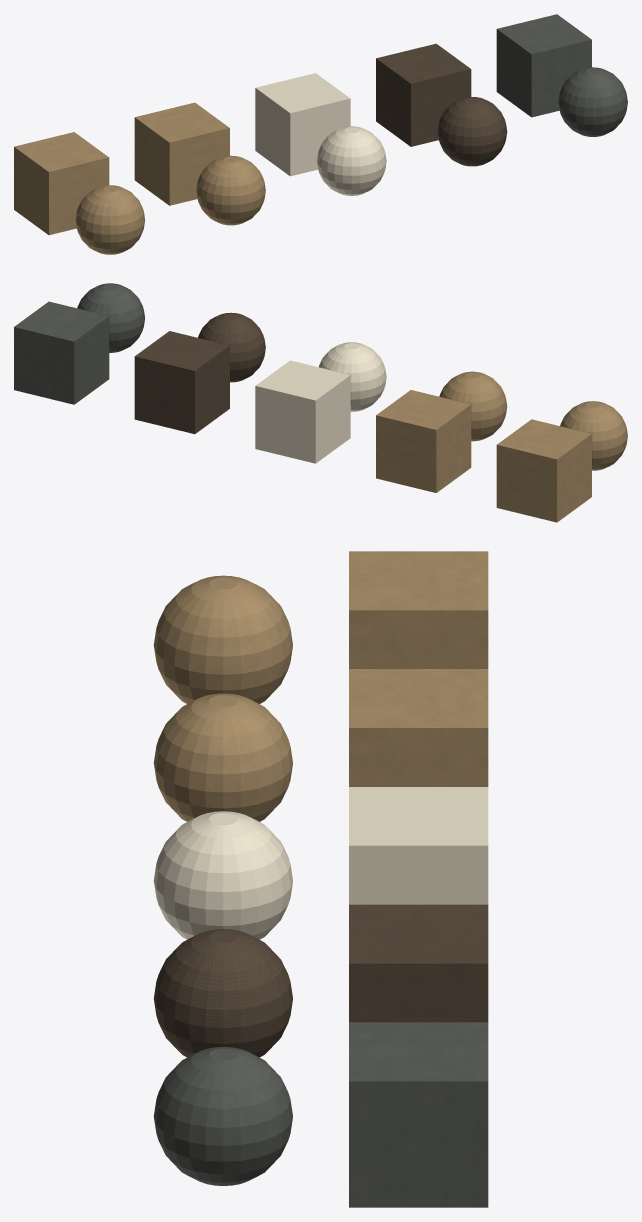
Rendered from lyref-A-LOD0.glb.
3 renders of one model, top to bottom at view 1: azimuth 30°, elevation 25°; view 2: azimuth 150°, elevation 25°; view 3: azimuth 270°, elevation 25°, orthographic. The views are drawn at different scales.
Visible parts, largest first — view 1: lyref-A-static_path, lyref-A-static_tile, lyref-A-static_paper__stone, lyref-A-static_timber, lyref-A-static_earth; view 2: lyref-A-static_earth, lyref-A-static_timber, lyref-A-static_paper__stone, lyref-A-static_tile, lyref-A-static_path; view 3: lyref-A-static_tile, lyref-A-static_timber, lyref-A-static_path, lyref-A-static_paper__stone, lyref-A-static_earth.
Boxes of the visible parts, x1=… form: lyref-A-static_path: x1=134, y1=102, x2=265, y2=225; lyref-A-static_tile: x1=496, y1=14, x2=627, y2=136; lyref-A-static_paper__stone: x1=255, y1=73, x2=386, y2=195; lyref-A-static_timber: x1=376, y1=43, x2=507, y2=166; lyref-A-static_earth: x1=14, y1=132, x2=144, y2=254; lyref-A-static_earth: x1=496, y1=401, x2=627, y2=522; lyref-A-static_timber: x1=134, y1=312, x2=265, y2=434; lyref-A-static_paper__stone: x1=255, y1=342, x2=386, y2=463; lyref-A-static_tile: x1=14, y1=283, x2=144, y2=404; lyref-A-static_path: x1=376, y1=371, x2=507, y2=492; lyref-A-static_tile: x1=153, y1=1022, x2=488, y2=1207; lyref-A-static_timber: x1=153, y1=904, x2=488, y2=1057; lyref-A-static_path: x1=153, y1=669, x2=488, y2=821; lyref-A-static_paper__stone: x1=153, y1=787, x2=488, y2=939; lyref-A-static_earth: x1=153, y1=551, x2=488, y2=703.
Size of the model in its own units: 9 by 1 by 2.4.
Materials: 5 (4 with a texture image).
